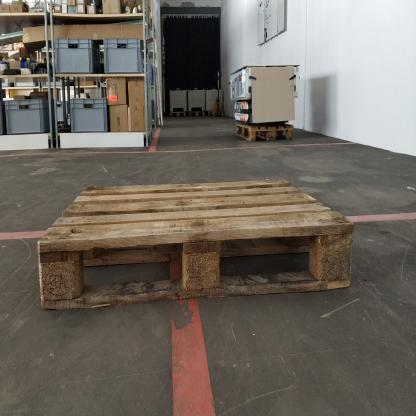BoxFace: (36, 173, 358, 316), (233, 122, 294, 146)
